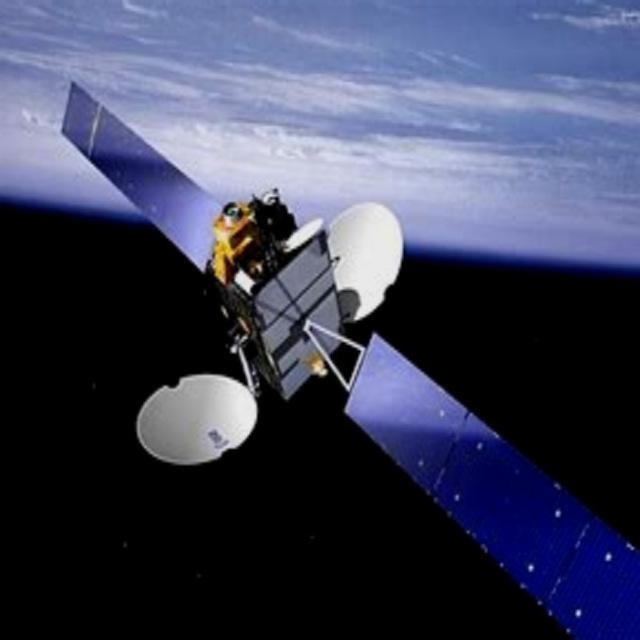medium_debris: (53, 77, 640, 640)
